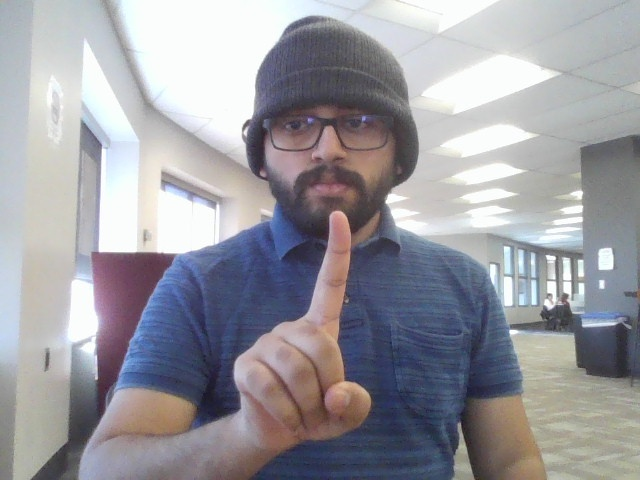one: (227, 207, 423, 453)
